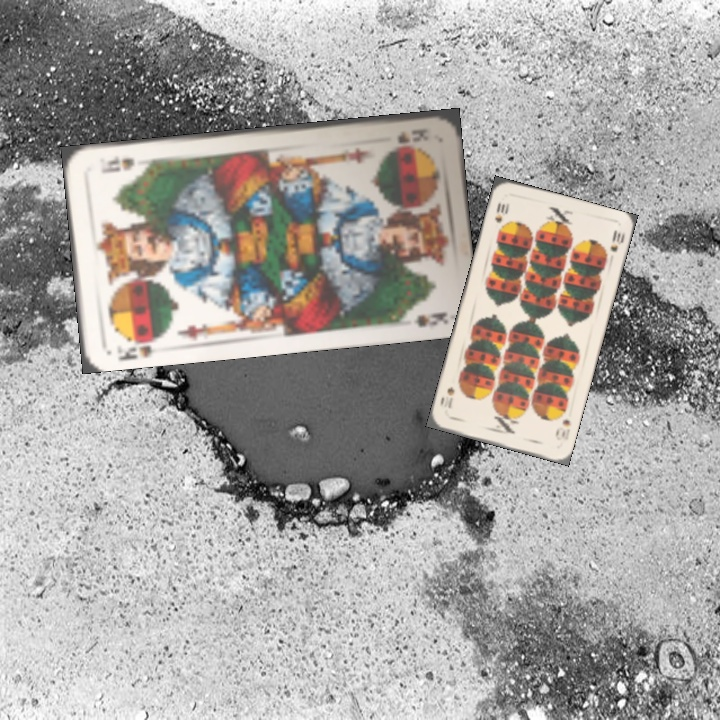S10: (551, 415, 574, 443), (490, 198, 511, 225)
SK: (393, 124, 431, 147), (114, 341, 155, 362)
